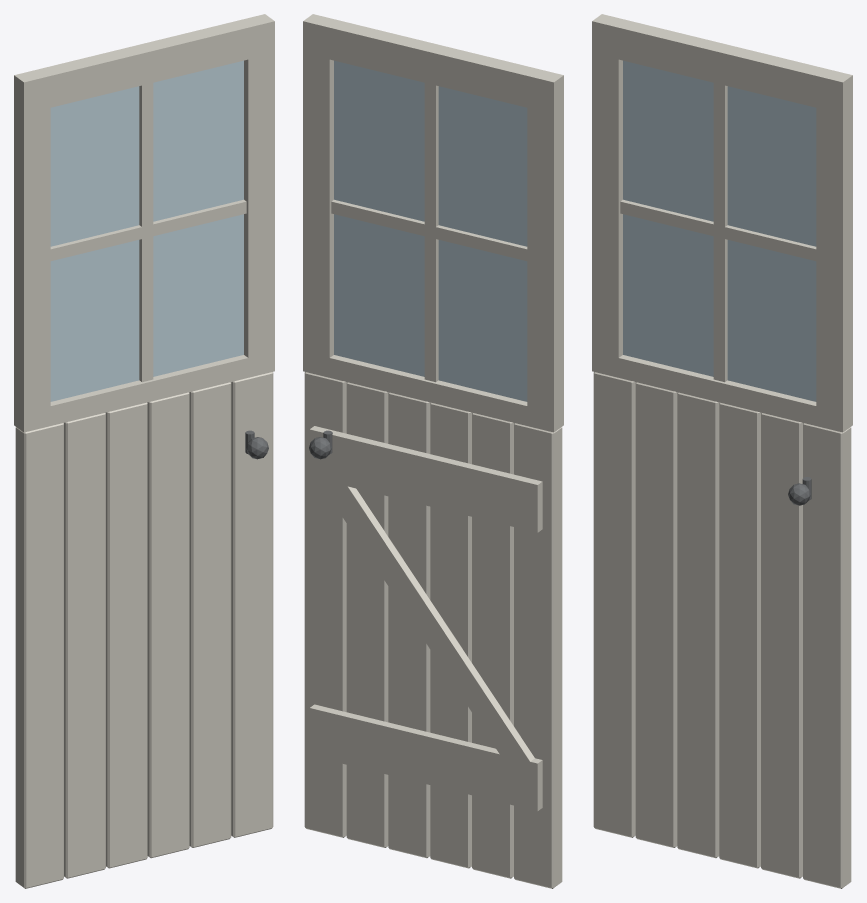
Rendered from door_back.glb.
The picture shows the model from 3 angles, left to right: view 1: azimuth 30°, elevation 25°; view 2: azimuth 150°, elevation 25°; view 3: azimuth 330°, elevation 25°; orthographic projection.
Parts seen in each view (by area): view 1: door_back_paint_c, door_back_glass; view 2: door_back_paint_c, door_back_glass; view 3: door_back_paint_c, door_back_glass.
Part boxes in pixels (bbox=[...]): door_back_paint_c: bbox=[14, 14, 274, 888]; door_back_glass: bbox=[50, 60, 243, 401]; door_back_paint_c: bbox=[303, 14, 563, 888]; door_back_glass: bbox=[334, 60, 527, 401]; door_back_paint_c: bbox=[592, 14, 852, 888]; door_back_glass: bbox=[623, 60, 816, 401].
Size of the model in its own units: 0.66 by 2.03 by 0.217.
